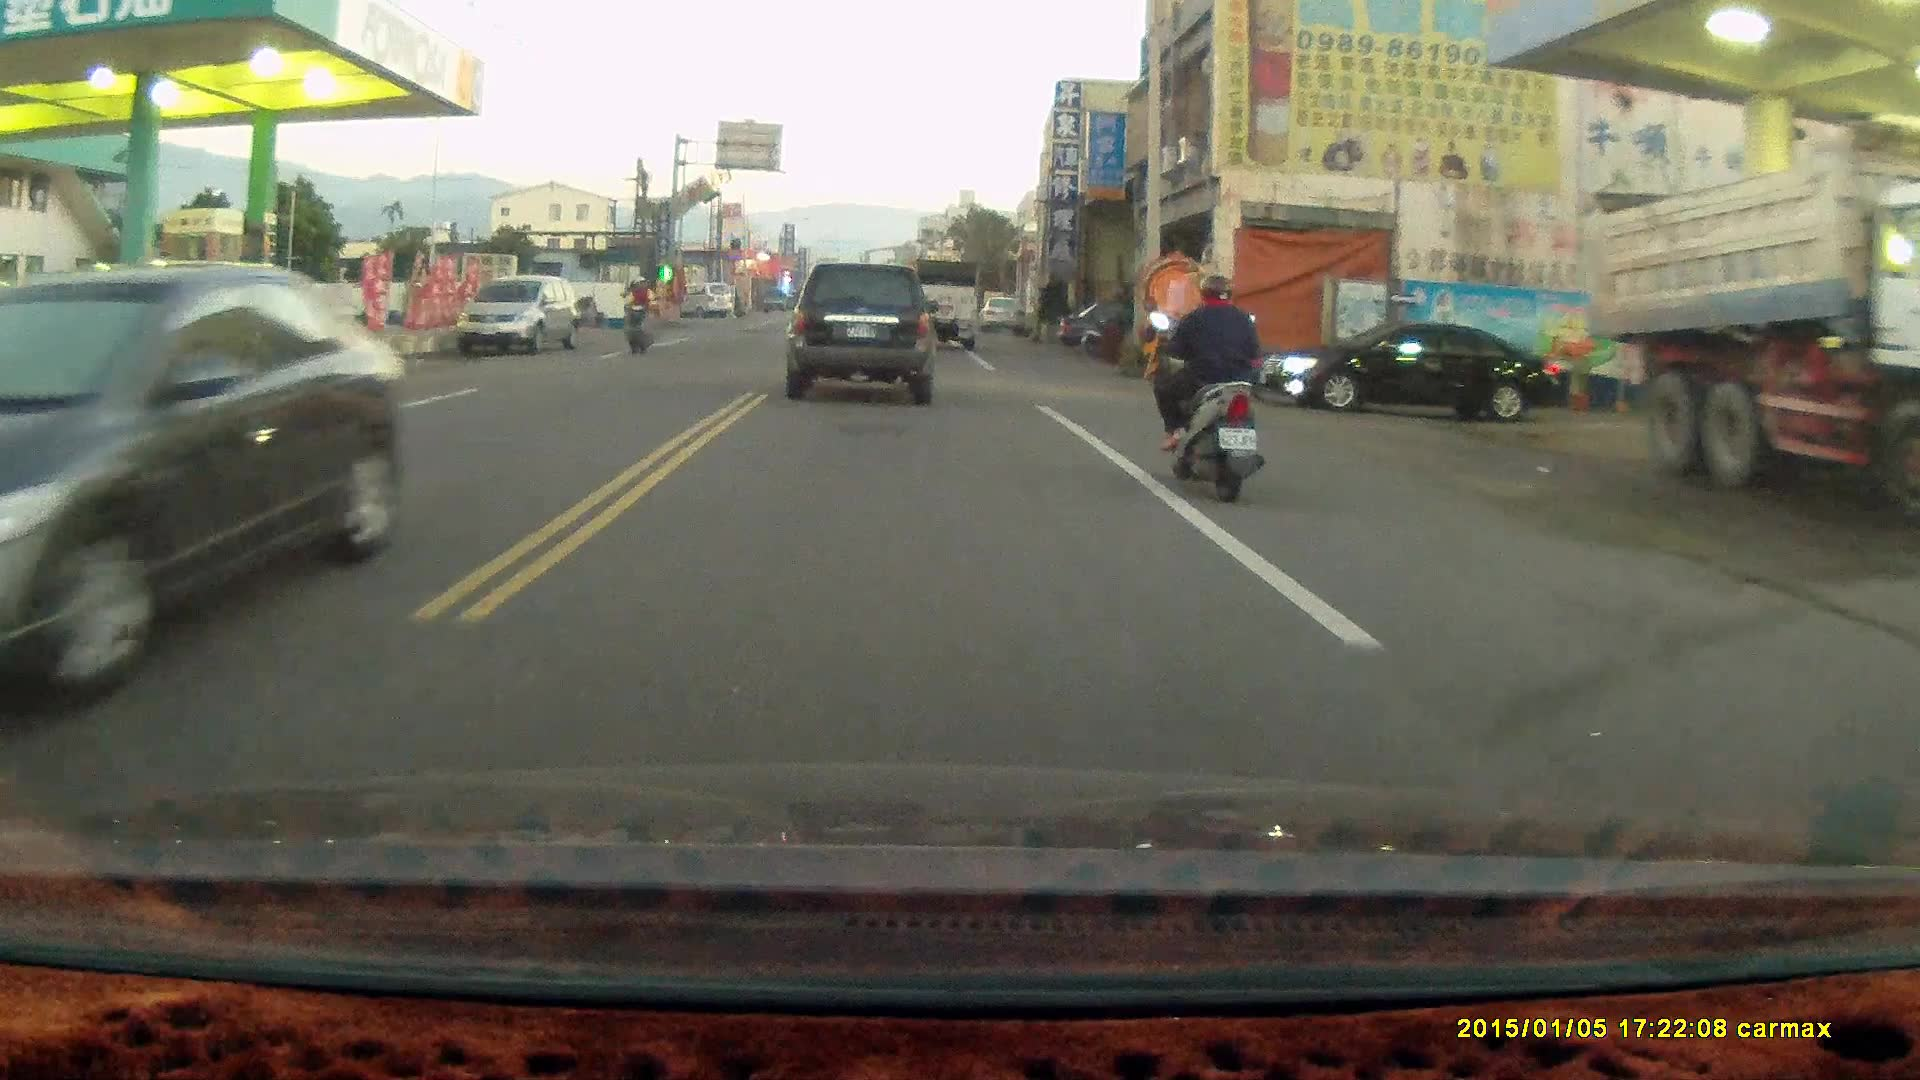rider: (1146, 274, 1263, 502), (617, 270, 656, 355)
vehicle: (1, 258, 412, 744), (1591, 127, 1920, 494), (1267, 323, 1576, 421), (791, 261, 938, 404), (457, 273, 578, 361), (909, 259, 981, 351)
